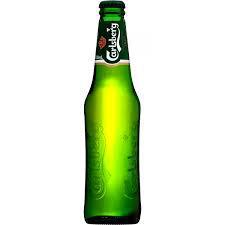beer: (83, 1, 143, 224)
